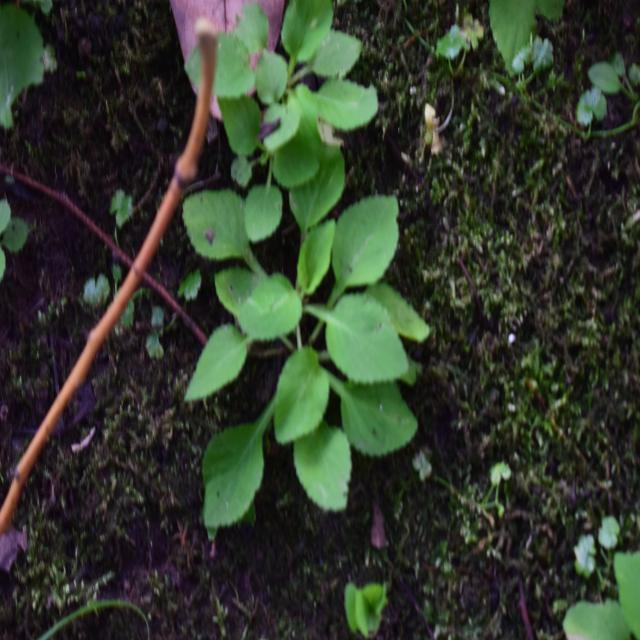Viola: (185, 168, 412, 529)
